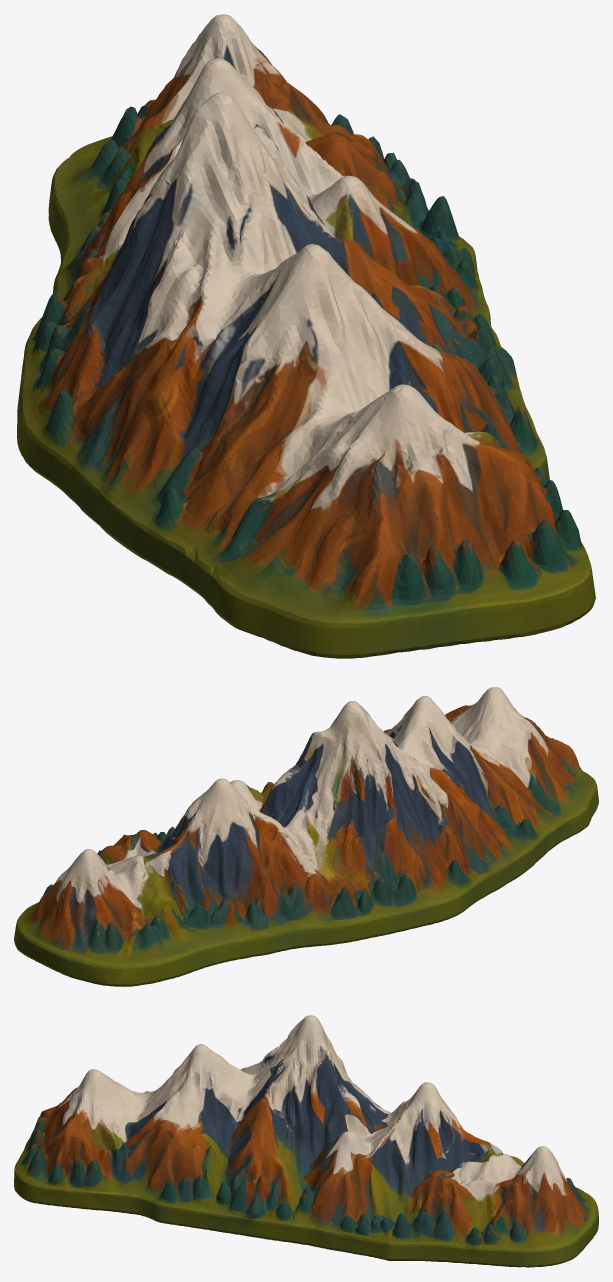
File: chablais.glb
3 views of the same model, one above another, from view 1: azimuth 30°, elevation 25°; view 2: azimuth 150°, elevation 25°; view 3: azimuth 270°, elevation 25° (orthographic). The views are drawn at different scales.
Visible parts, largest first — view 1: textured_mesh.obj; view 2: textured_mesh.obj; view 3: textured_mesh.obj.
Part boxes in pixels (left/top/right/bottom): textured_mesh.obj: left=17, top=14, right=595, bottom=658; textured_mesh.obj: left=14, top=687, right=598, bottom=986; textured_mesh.obj: left=14, top=1015, right=598, bottom=1267.
Size of the model in its own units: 1.11 by 0.6156 by 1.99.
1 material, 1 textured.
